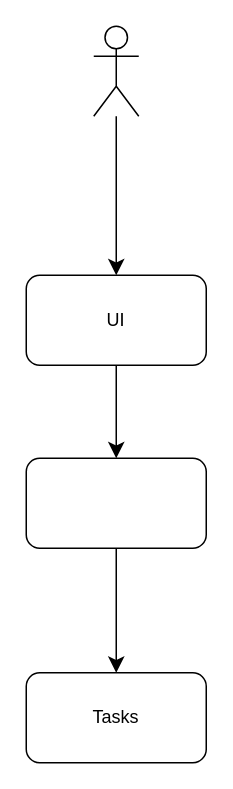
This 233x789 diagram has some shape labels left out. Each missing label, with the centre of its shape:
"Actor" belongs at point 115,70.
"BFF" belongs at point 115,502.
